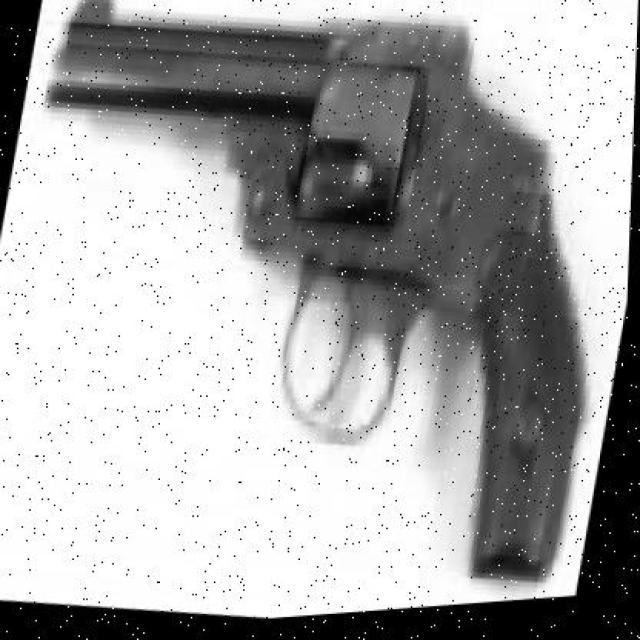weapon: (46, 2, 591, 584)
